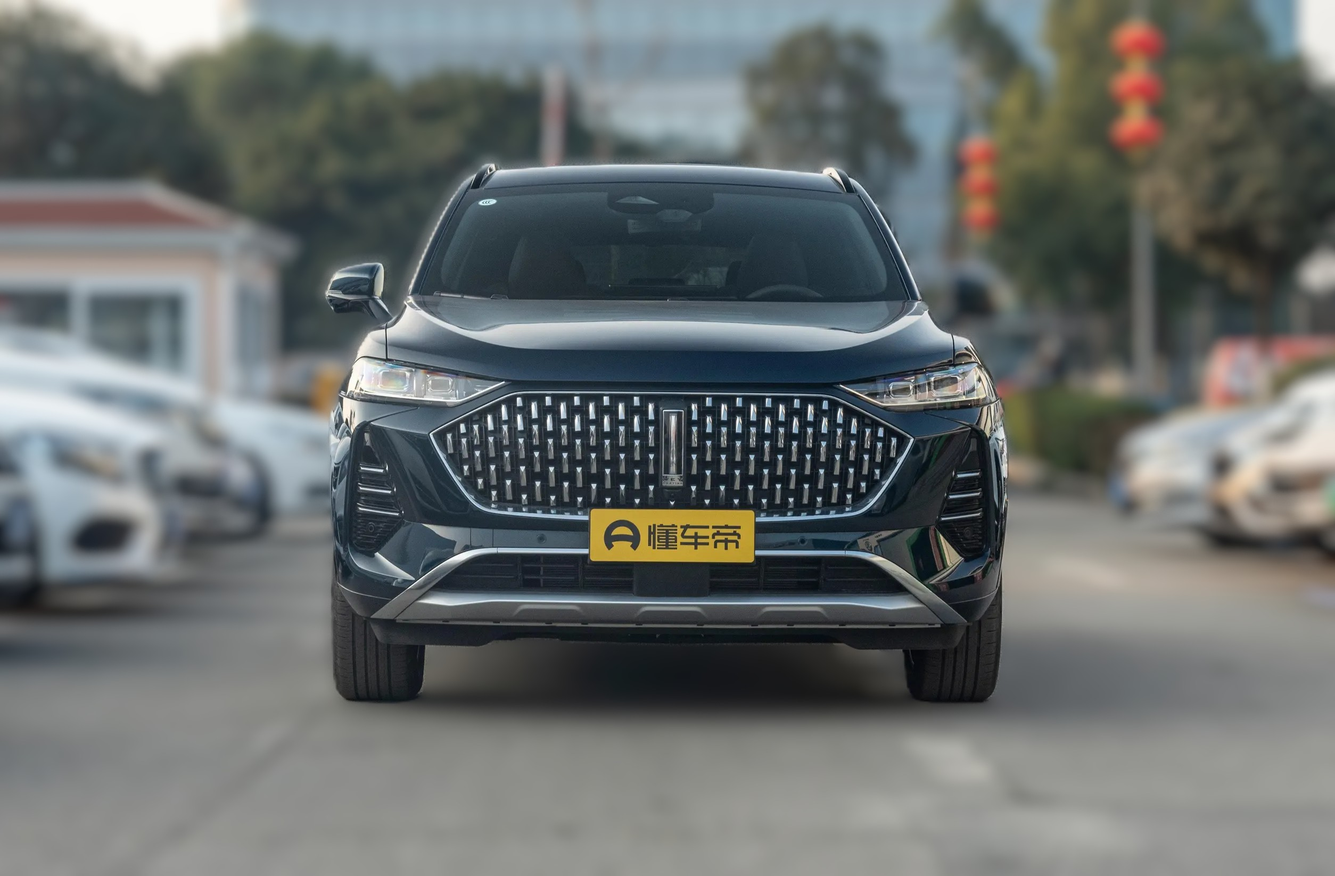WEY: (663, 410, 683, 486)
